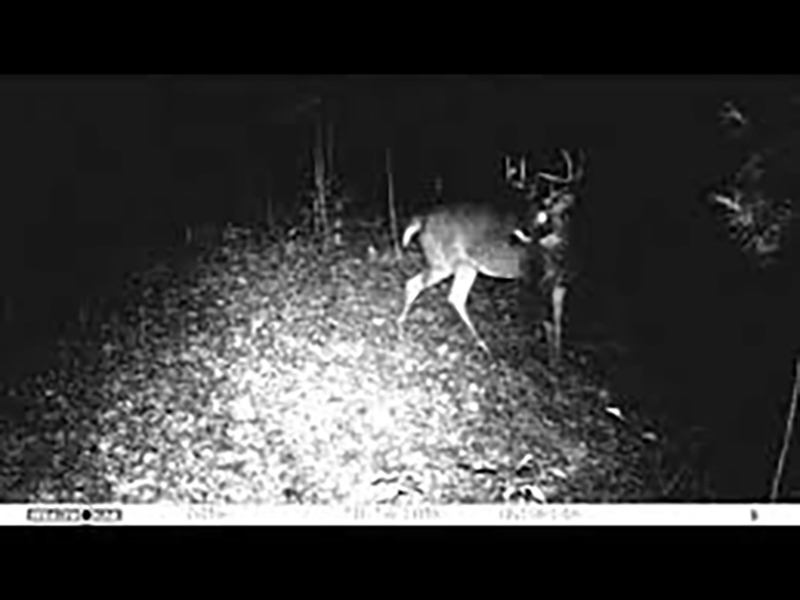cervo: (399, 152, 600, 368)
